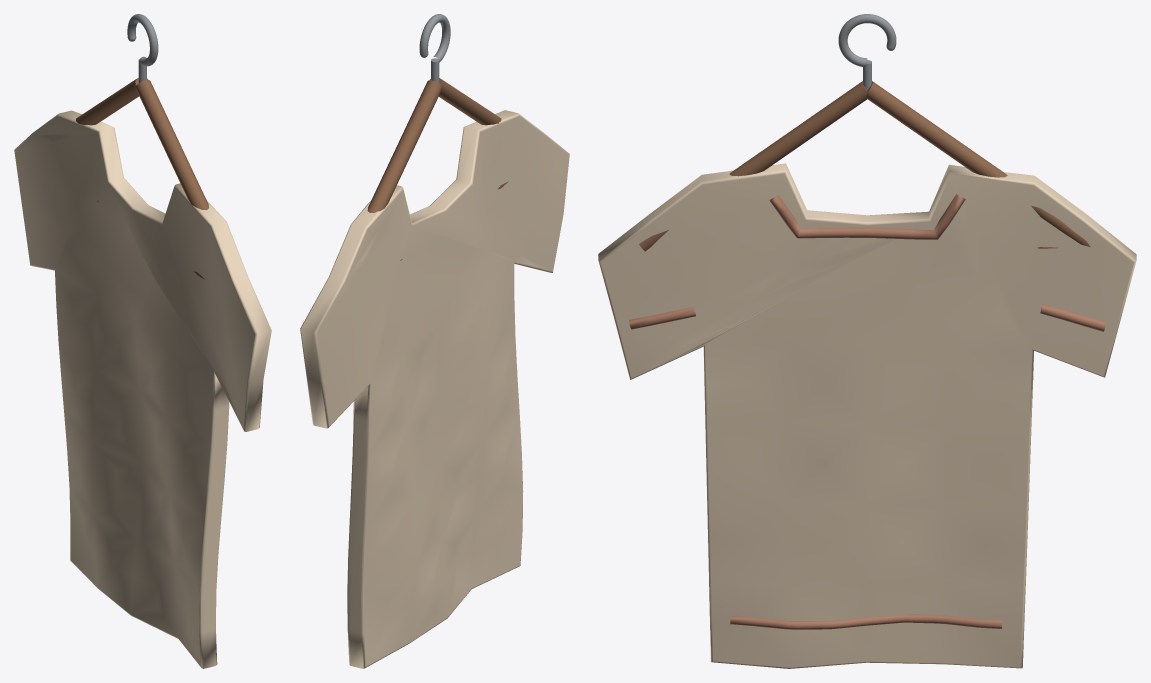
The picture shows the model from 3 angles, left to right: view 1: azimuth 30°, elevation 25°; view 2: azimuth 150°, elevation 25°; view 3: azimuth 270°, elevation 25°; orthographic projection. The views are drawn at different scales.
Visible parts, largest first — view 1: garment-cloth, garment-hanger, hanger-hook; view 2: garment-cloth, garment-hanger, hanger-hook; view 3: garment-cloth, garment-seams, garment-hanger, hanger-hook.
Part boxes in pixels (x1,y1,x2,y2): garment-cloth: (14, 110, 271, 668); garment-hanger: (76, 78, 208, 279); hanger-hook: (127, 14, 158, 82); garment-cloth: (300, 110, 569, 668); garment-hanger: (367, 78, 508, 260); hanger-hook: (419, 14, 450, 83); garment-cloth: (598, 163, 1136, 668); garment-seams: (629, 194, 1105, 629); garment-hanger: (639, 81, 1090, 251); hanger-hook: (838, 14, 896, 89).
Bounding box in the file's own units: 0.0321 × 0.5419 × 0.4082.
